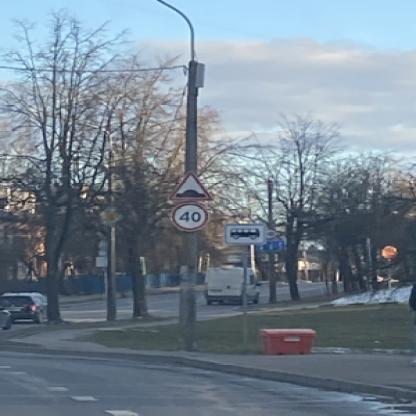Speed Limit 40: (172, 200, 209, 231)
